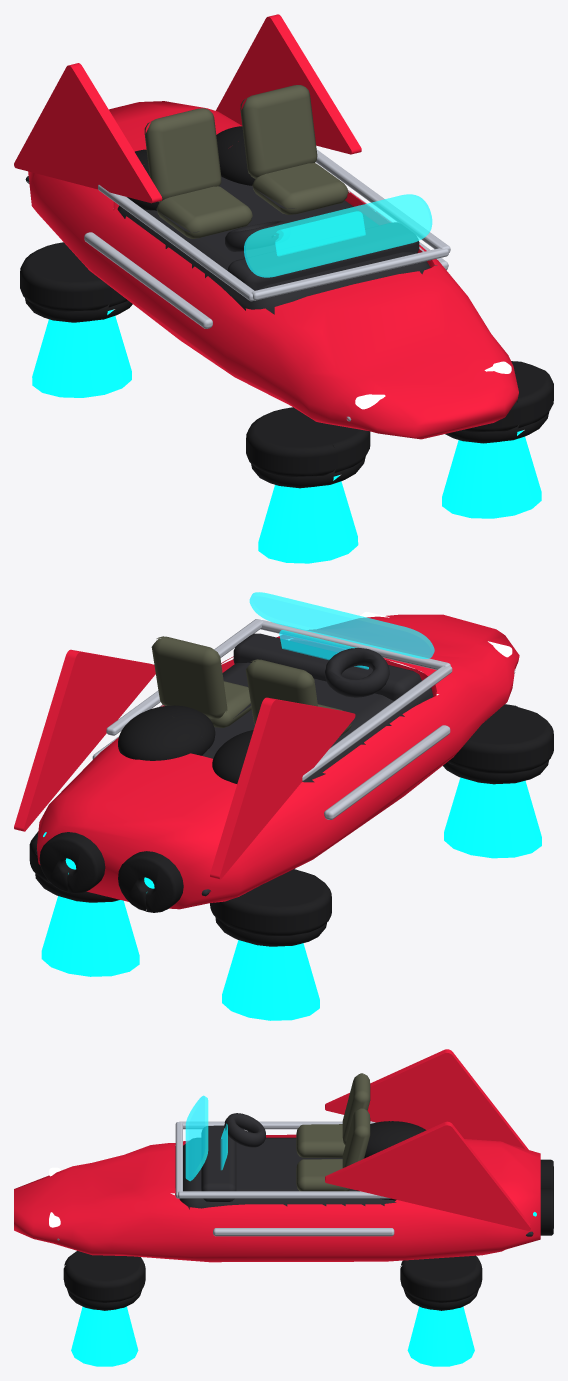
File: metaverse-cadillac-cabrio.glb
The picture shows the model from 3 angles, top to bottom: view 1: azimuth 30°, elevation 25°; view 2: azimuth 150°, elevation 25°; view 3: azimuth 270°, elevation 25°; orthographic projection. The views are drawn at different scales.
Parts seen in each view (by area): view 1: Cadillac_Body, Tailfin_1, Windshield, Cockpit_Liner, Tailfin_2, Thruster_Glow_1, Thruster_Glow_2, Thruster_Glow_3, Thruster_Pod_1, Seat_Back_2, Seat_Back_1, Dashboard (+14 smaller); view 2: Cadillac_Body, Tailfin_1, Tailfin_2, Thruster_Glow_4, Thruster_Glow_3, Thruster_Glow_1, Thruster_Pod_3, Windshield, Thruster_Pod_1, Seat_Back_2, Roll_Fairing_2, Cockpit_Liner (+15 smaller); view 3: Cadillac_Body, Tailfin_2, Tailfin_1, Cockpit_Liner, Thruster_Pod_2, Thruster_Pod_4, Thruster_Glow_4, Thruster_Glow_2, Dashboard, Windshield, Side_Spear_2, Cockpit_Rail_2 (+12 smaller).
Boxes of the visible parts, x1,y1,x2,y2 form: Cadillac_Body: (28, 101, 518, 439); Tailfin_1: (14, 63, 162, 203); Windshield: (244, 194, 432, 277); Cockpit_Liner: (117, 176, 430, 314); Tailfin_2: (216, 14, 361, 154); Thruster_Glow_1: (258, 475, 358, 563); Thruster_Glow_2: (442, 430, 541, 518); Thruster_Glow_3: (32, 309, 131, 397); Thruster_Pod_1: (246, 407, 370, 477); Seat_Back_2: (240, 85, 317, 178); Seat_Back_1: (144, 108, 221, 202); Dashboard: (227, 222, 419, 290); Cadillac_Body: (37, 614, 519, 909); Tailfin_1: (210, 697, 355, 879); Tailfin_2: (14, 649, 155, 831); Thruster_Glow_4: (41, 896, 139, 976); Thruster_Glow_3: (222, 940, 319, 1020); Thruster_Glow_1: (444, 777, 541, 858); Thruster_Pod_3: (210, 868, 331, 935); Windshield: (249, 592, 434, 658); Thruster_Pod_1: (448, 704, 553, 773); Seat_Back_2: (151, 636, 227, 718); Roll_Fairing_2: (118, 705, 215, 760); Cockpit_Liner: (201, 662, 433, 782); Cadillac_Body: (14, 1134, 540, 1262); Tailfin_2: (325, 1121, 530, 1230); Tailfin_1: (325, 1049, 528, 1149); Cockpit_Liner: (179, 1137, 396, 1209); Thruster_Pod_2: (63, 1251, 145, 1302); Thruster_Pod_4: (400, 1255, 482, 1302); Thruster_Glow_4: (407, 1306, 474, 1366); Thruster_Glow_2: (71, 1306, 138, 1366); Dashboard: (201, 1125, 236, 1201); Windshield: (185, 1095, 208, 1181); Side_Spear_2: (213, 1228, 394, 1236); Cockpit_Rail_2: (178, 1191, 390, 1198).
Bounding box in the file's own units: 2.69 × 2.71 × 5.73.
